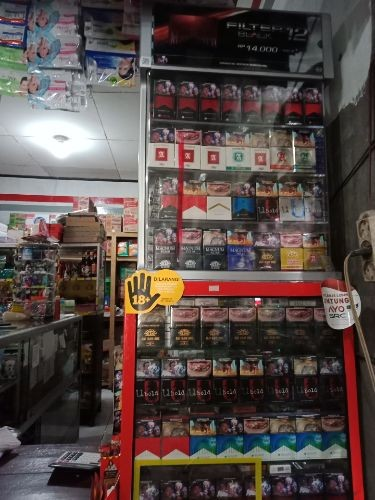A Mild: (177, 128, 201, 167), (151, 126, 174, 166), (202, 128, 225, 168)
U Mild: (279, 181, 304, 222), (304, 182, 326, 222)
